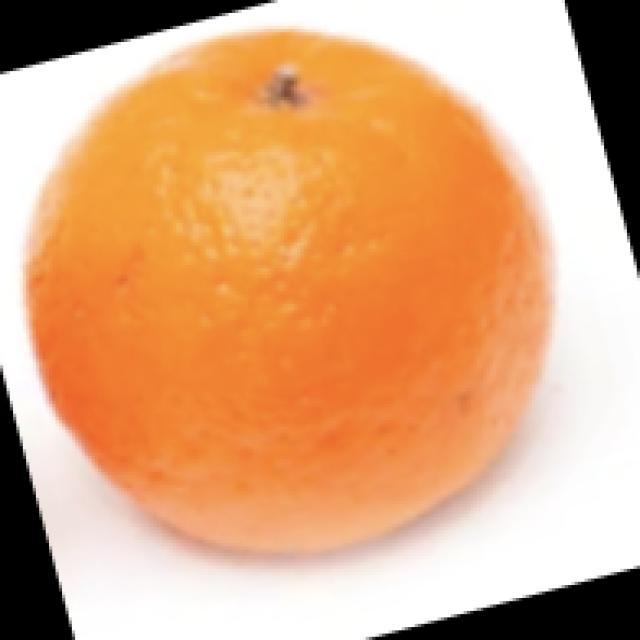matang: (28, 31, 549, 548)
